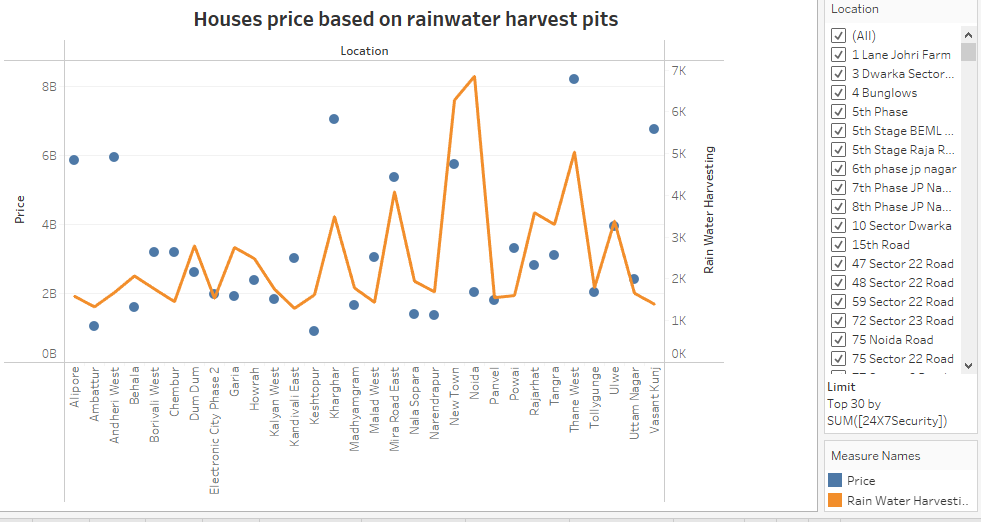

Layout of this report page (visuals, bound fields, positions):
{"tool":"tableau","page":{"name":"Dashboard 4","canvas":[1000,800],"ordinal":3},"visuals":[{"type":"worksheet","title":"Sheet 8","mark":"Automatic","rows":["Location"],"cols":["Price","Calculation_1096063561565847552","Intercom"],"box":[8,8,824,784]},{"type":"legend","title":"Sheet 8","param":"[federated.1i14un80v36d5i1akako61g8pi19].[sum:Price:qk]","box":[832,8,160,65]},{"type":"legend","title":"Sheet 8","param":"[federated.1i14un80v36d5i1akako61g8pi19].[sum:Intercom:qk]","box":[832,73,160,65]},{"type":"legend","title":"Sheet 8","param":"[federated.1i14un80v36d5i1akako61g8pi19].[none:Location:nk]","box":[832,138,160,226]}]}

Visuals, with their boxes on the page's 1000x800 design canvas (x1, y1, x2, y2). These are canvas units, not pixel positions in the 981x522 screenshot, which may show the page scaled, cropped or inside an application window:
"Sheet 8" worksheet: (x1=8, y1=8, x2=832, y2=792)
"Sheet 8" legend: (x1=832, y1=8, x2=992, y2=73)
"Sheet 8" legend: (x1=832, y1=73, x2=992, y2=138)
"Sheet 8" legend: (x1=832, y1=138, x2=992, y2=364)
